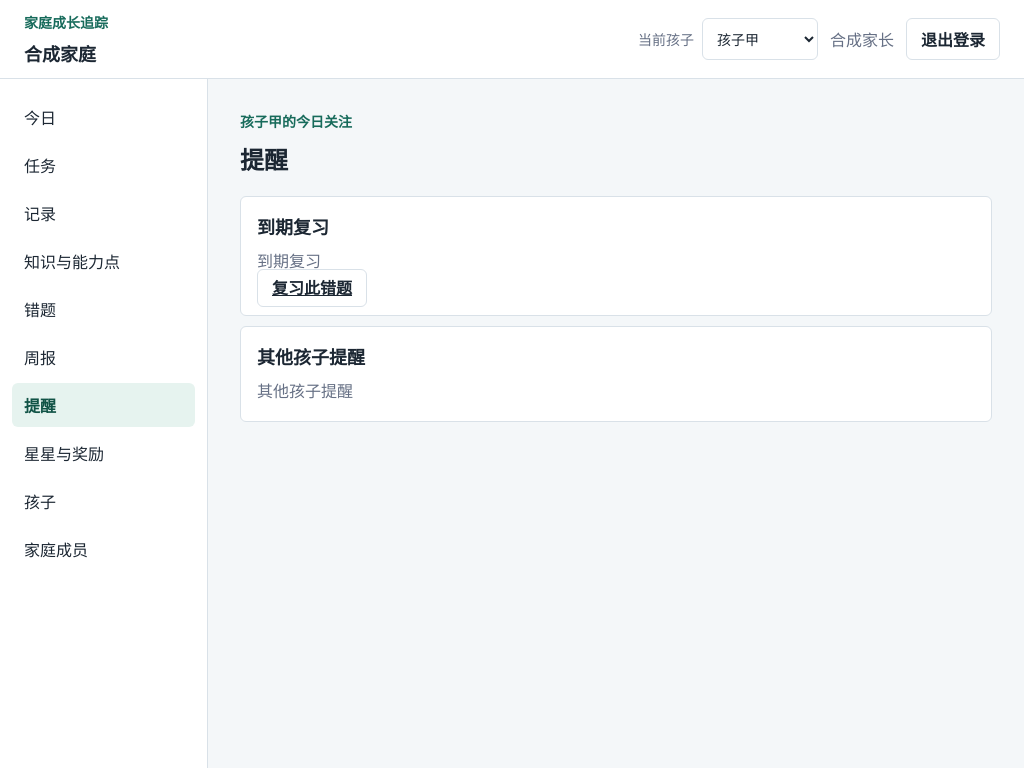
Test: parent reminder opens only current-child authoritative mistake; foreign reminders have no action
The image size is (1024, 768).
Click the link "复习此错题".
click(312, 288)  # box [257, 269, 367, 307]
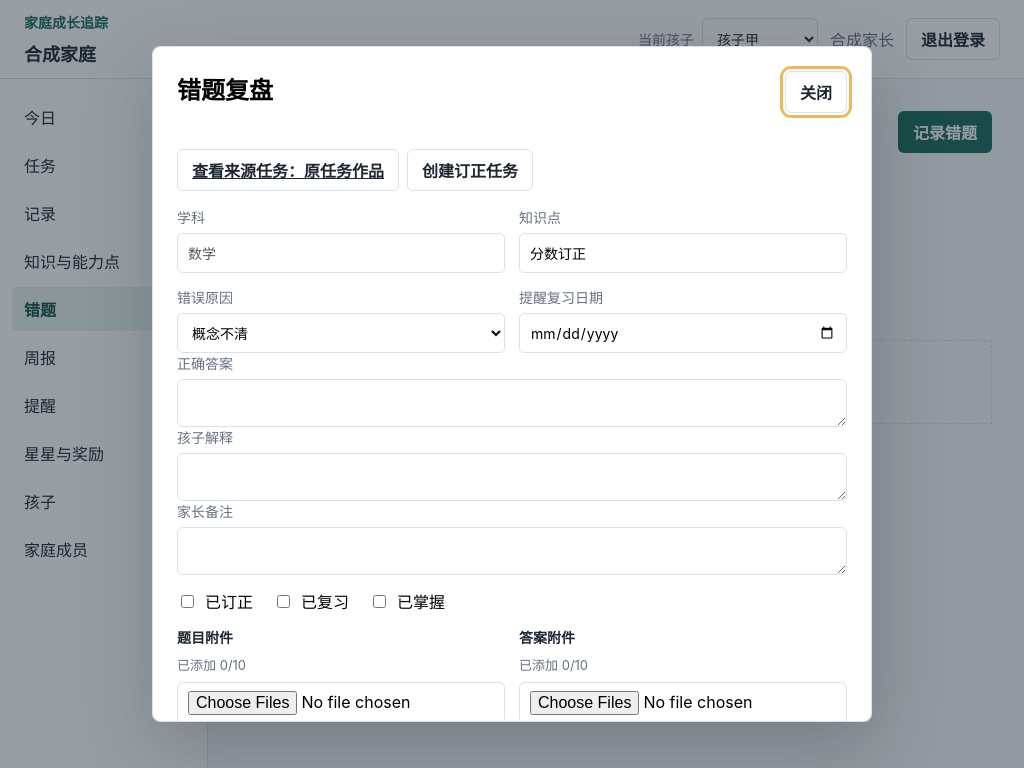
Expected: the dropdown labelled "当前孩子" shows "孩子甲", [702, 18, 818, 60]
Expected: the field labelled "知识点" holds "分数订正", [519, 233, 847, 273]
